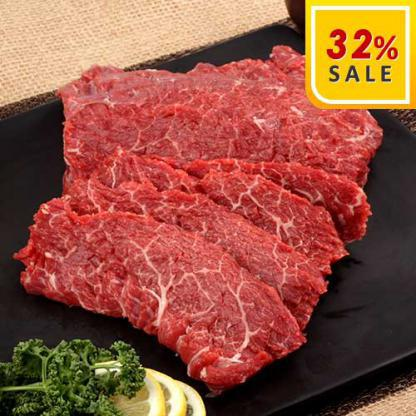beef: (57, 58, 312, 350)
